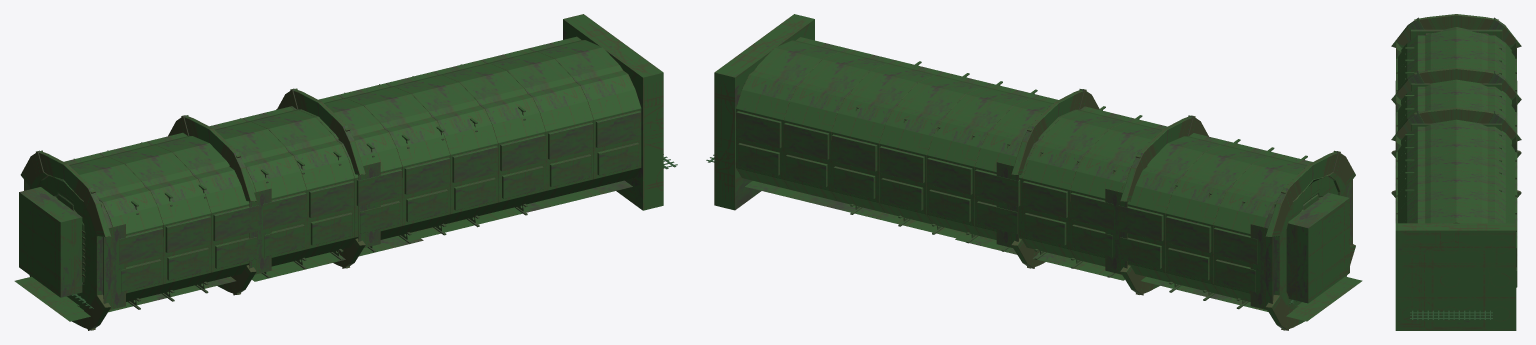
Rendered from submarine.fbx.
3 renders of one model, left to right at view 1: azimuth 30°, elevation 25°; view 2: azimuth 150°, elevation 25°; view 3: azimuth 270°, elevation 25°, orthographic. The views are drawn at different scales.
Visible parts, largest first — view 1: Cube, Cube.012, Cube.001, Cube.009, Cube.008, Cube.015, Plane.003, Plane.002, Plane.001; view 2: Cube, Cube.012, Cube.001, Cube.009, Cube.008, Cube.015, Plane.003, Plane.002, Plane.001; view 3: Cube, Cube.001, Cube.012, Cube.008, Cube.015, Cube.002.
Part boxes in pixels (<box>): Cube: <box>64,36,641,301</box>; Cube.012: <box>20,150,125,330</box>; Cube.001: <box>563,14,663,210</box>; Cube.009: <box>19,187,82,297</box>; Cube.008: <box>168,115,271,295</box>; Cube.015: <box>277,88,380,268</box>; Plane.003: <box>396,180,632,242</box>; Plane.002: <box>14,276,235,321</box>; Plane.001: <box>252,236,423,281</box>; Cube: <box>736,37,1312,301</box>; Cube.012: <box>1250,150,1355,330</box>; Cube.001: <box>714,14,814,210</box>; Cube.009: <box>1286,192,1349,303</box>; Cube.008: <box>1105,115,1208,295</box>; Cube.015: <box>996,89,1099,268</box>; Plane.003: <box>745,181,980,242</box>; Plane.002: <box>1141,276,1362,321</box>; Plane.001: <box>955,236,1124,280</box>; Cube: <box>1395,29,1517,287</box>; Cube.001: <box>1395,223,1516,330</box>; Cube.012: <box>1391,14,1521,104</box>; Cube.008: <box>1391,67,1521,157</box>; Cube.015: <box>1391,107,1521,197</box>; Cube.002: <box>1410,310,1492,319</box>.
Size of the model in its own units: 1482 by 356 by 367.
5 materials, 1 textured.
